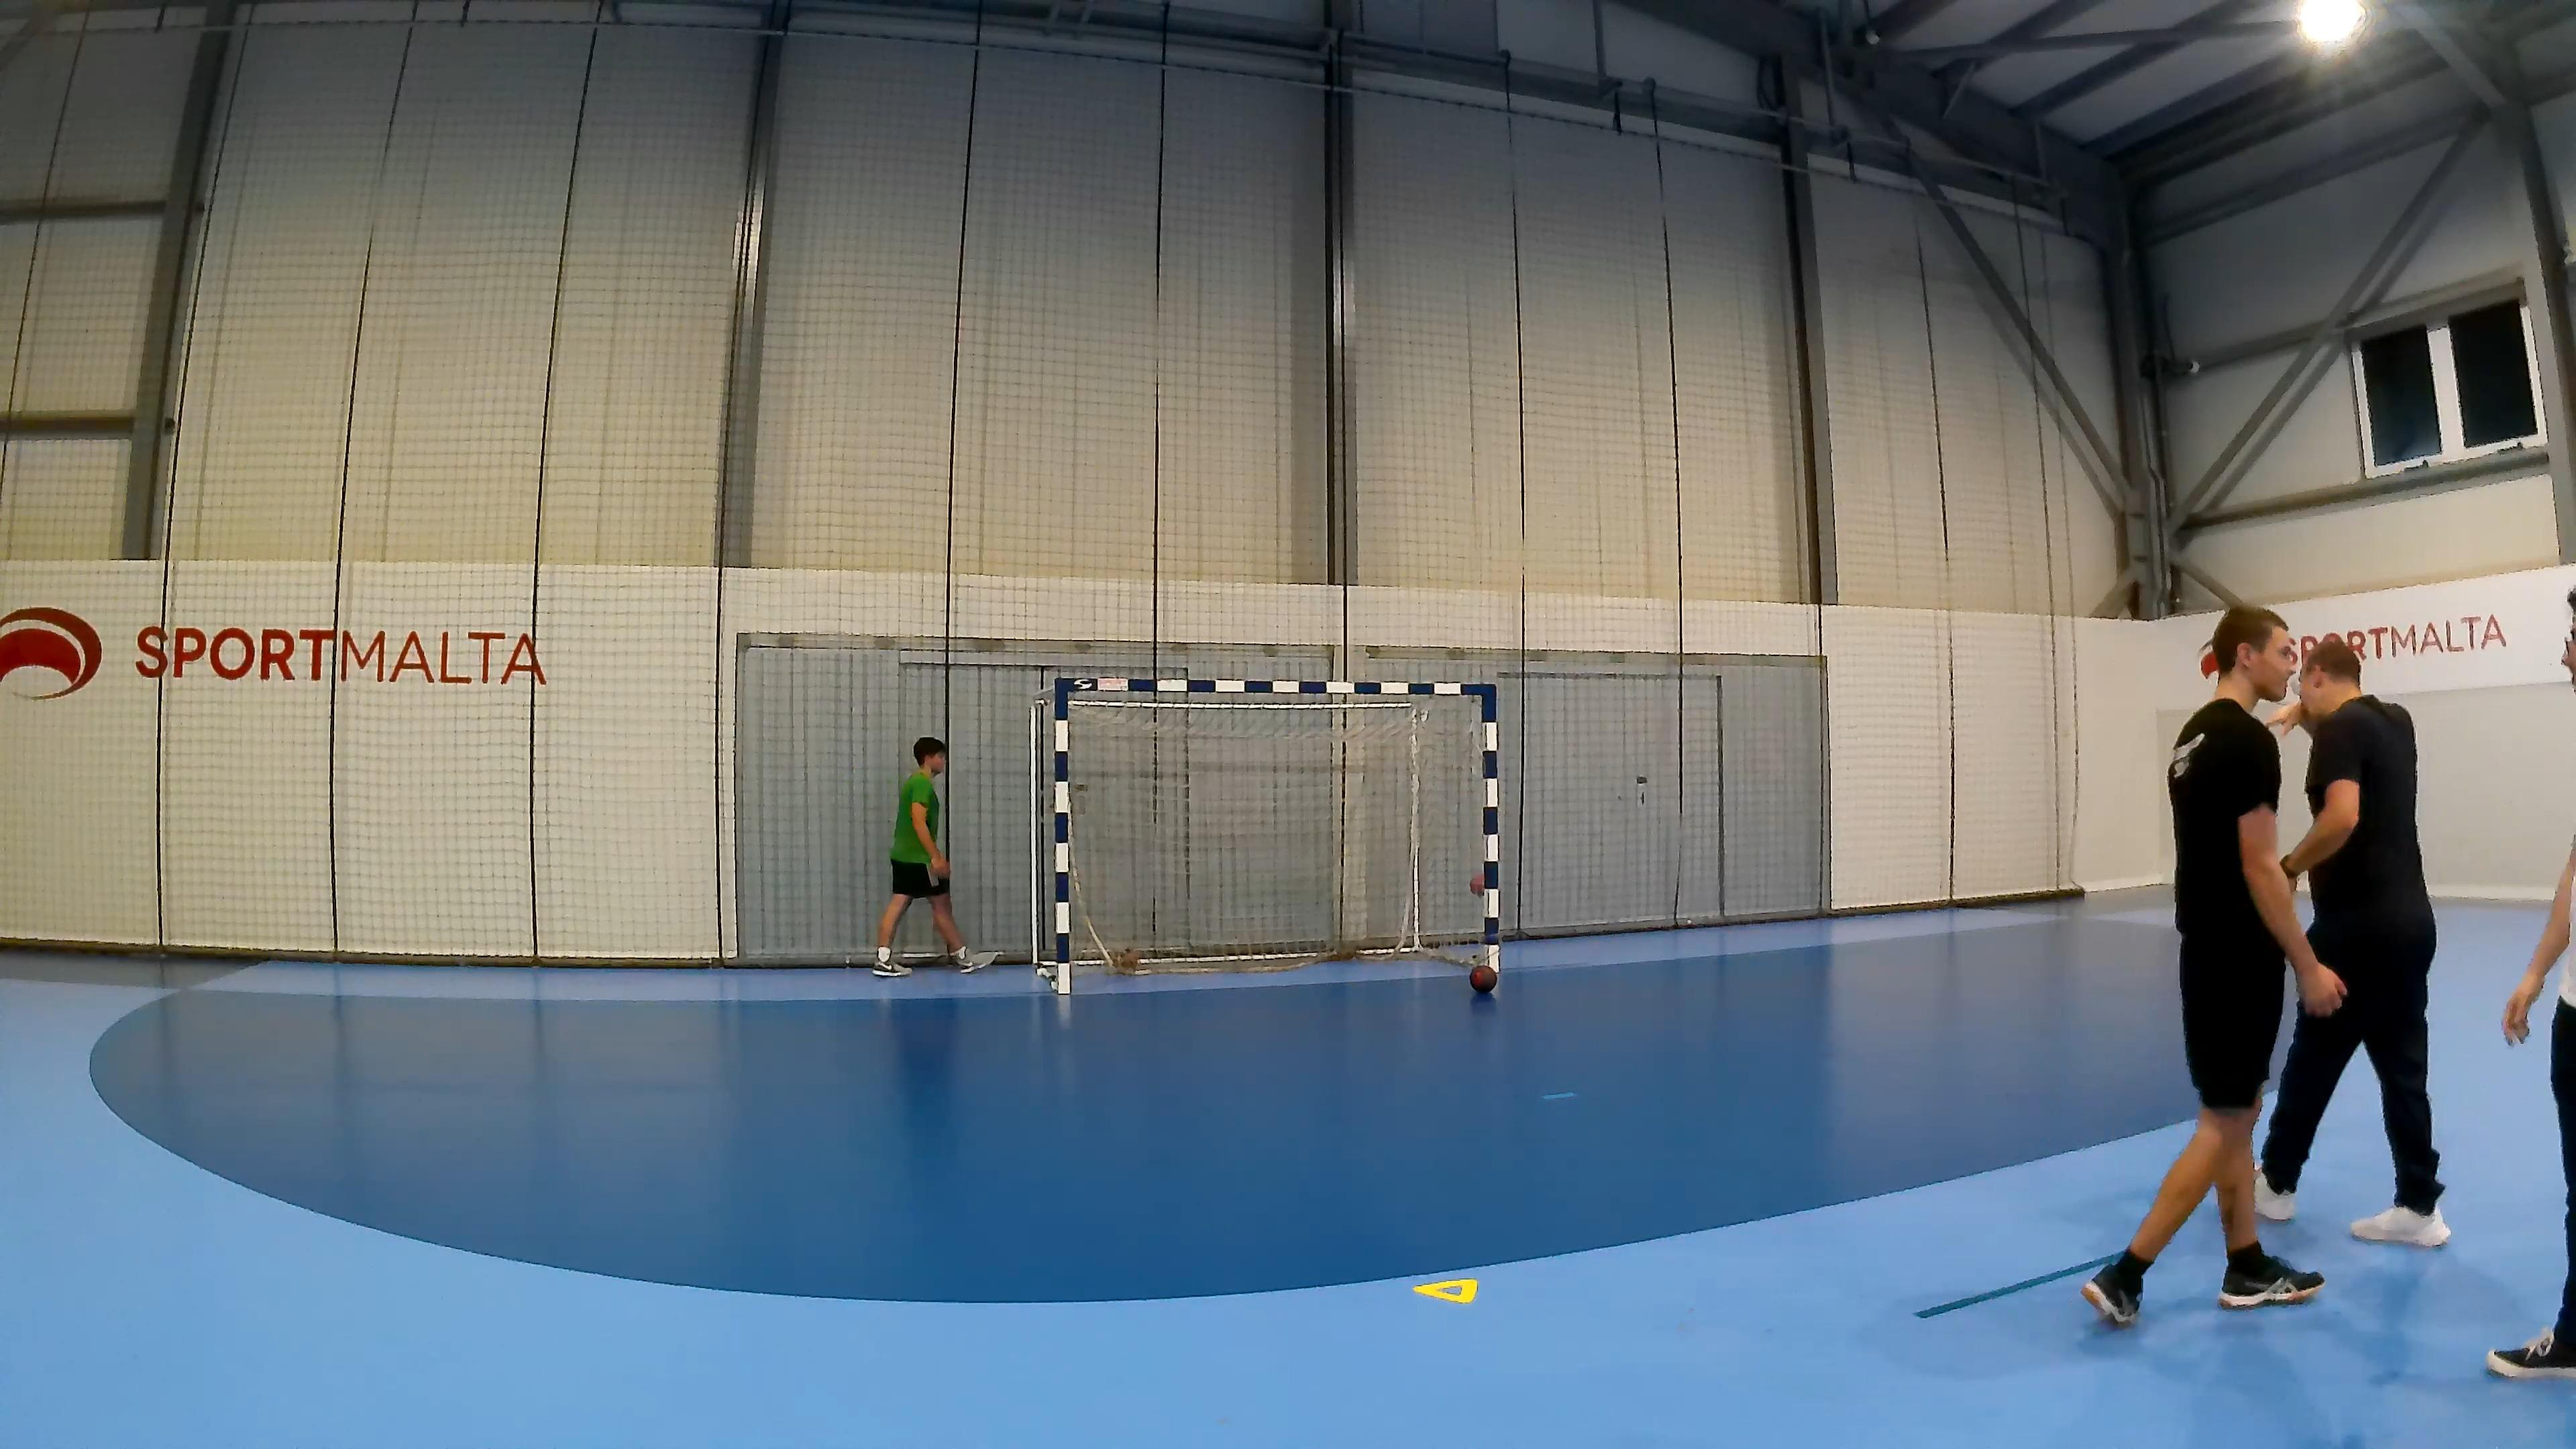handball: (1468, 962, 1497, 991)
